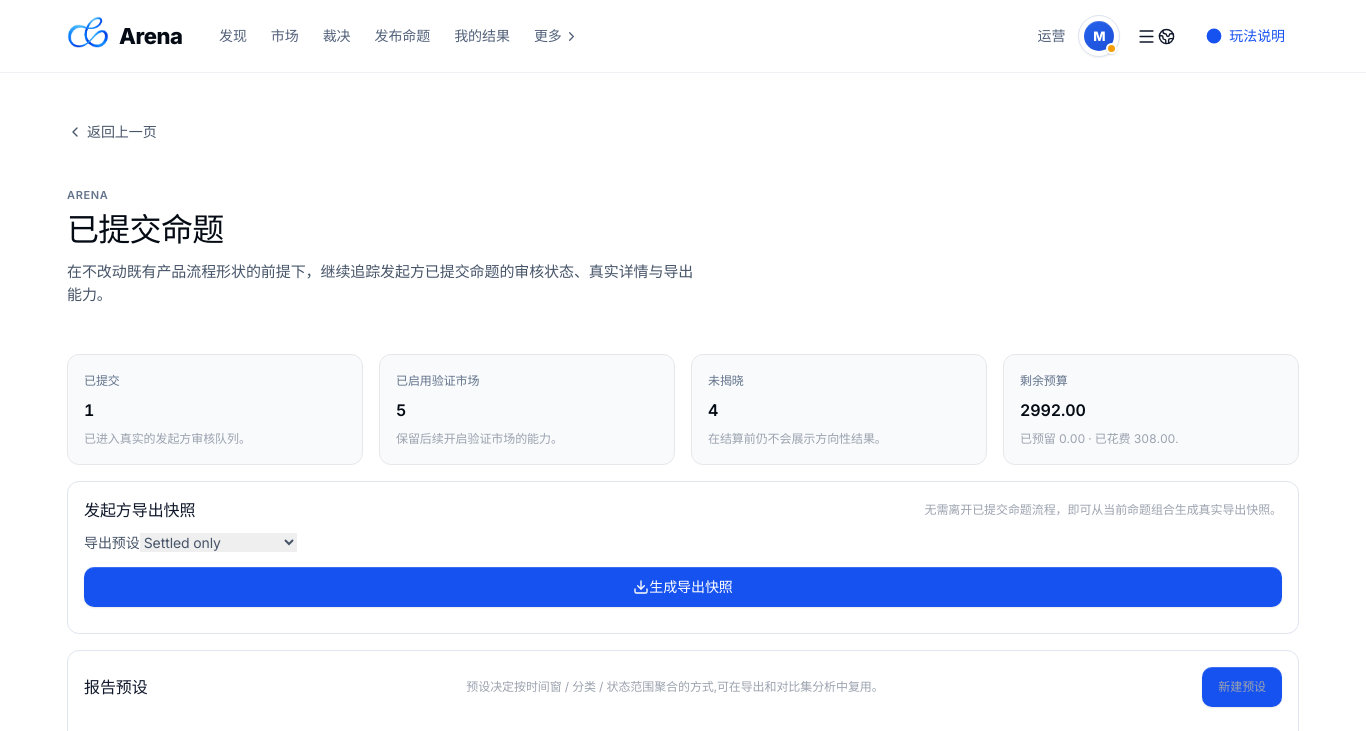
submissions page › creates a preset-backed requester export from the submissions flow
Select "Settled only" in the dropdown with test id "requester-export-preset-select" at (218, 543), box [140,533,297,552]
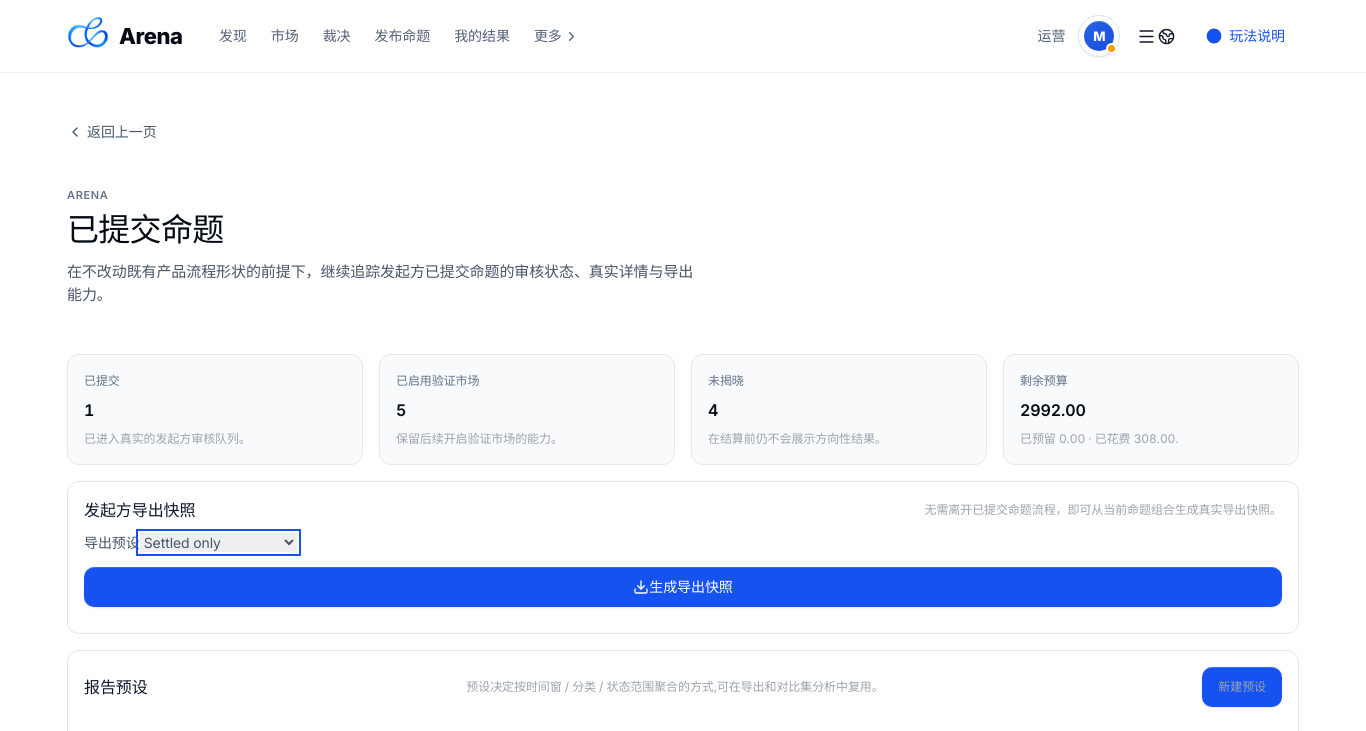
Click the button with test id "create-requester-export" at (683, 587), box [84,567,1282,607]
(page scrolled)
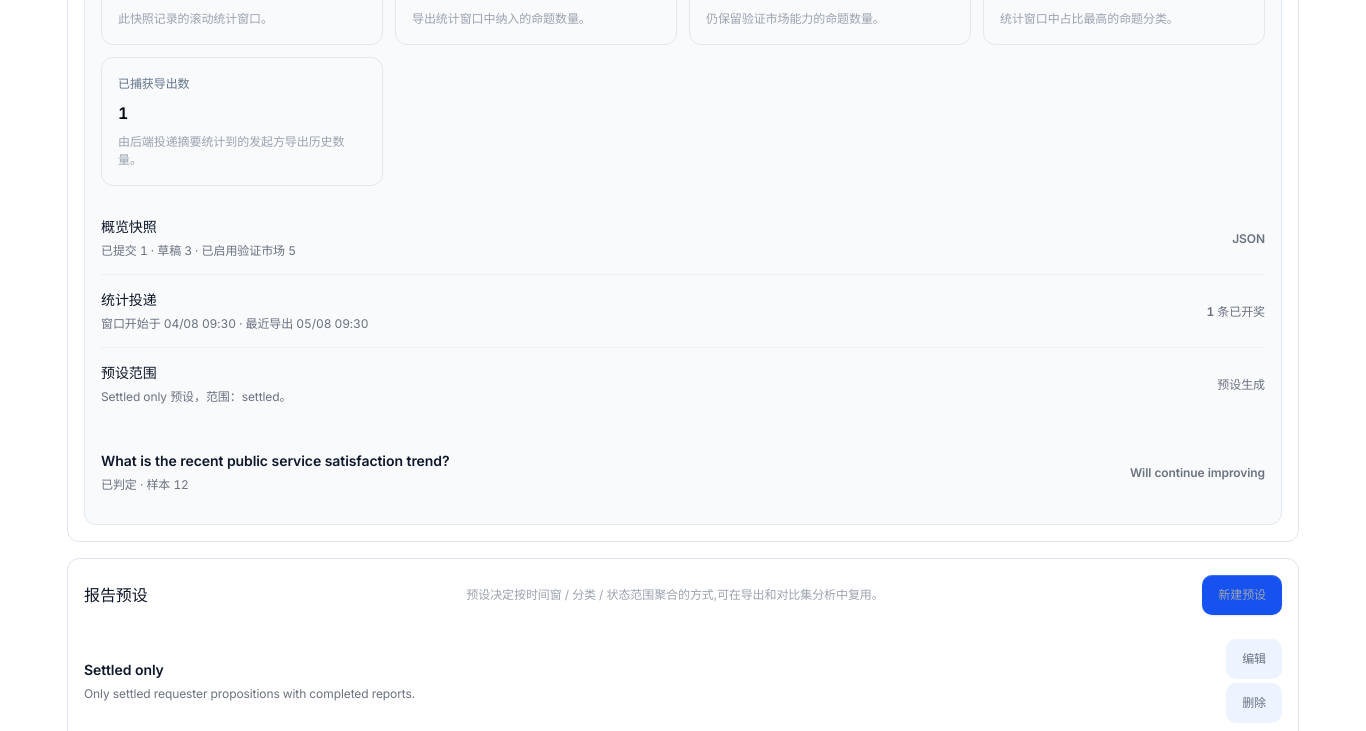
Expected: the text "Settled only 预设，范围：settled。" is shown, [101,389,291,404]
Expected: the text "预设生成" is shown, [1217,377,1265,392]
